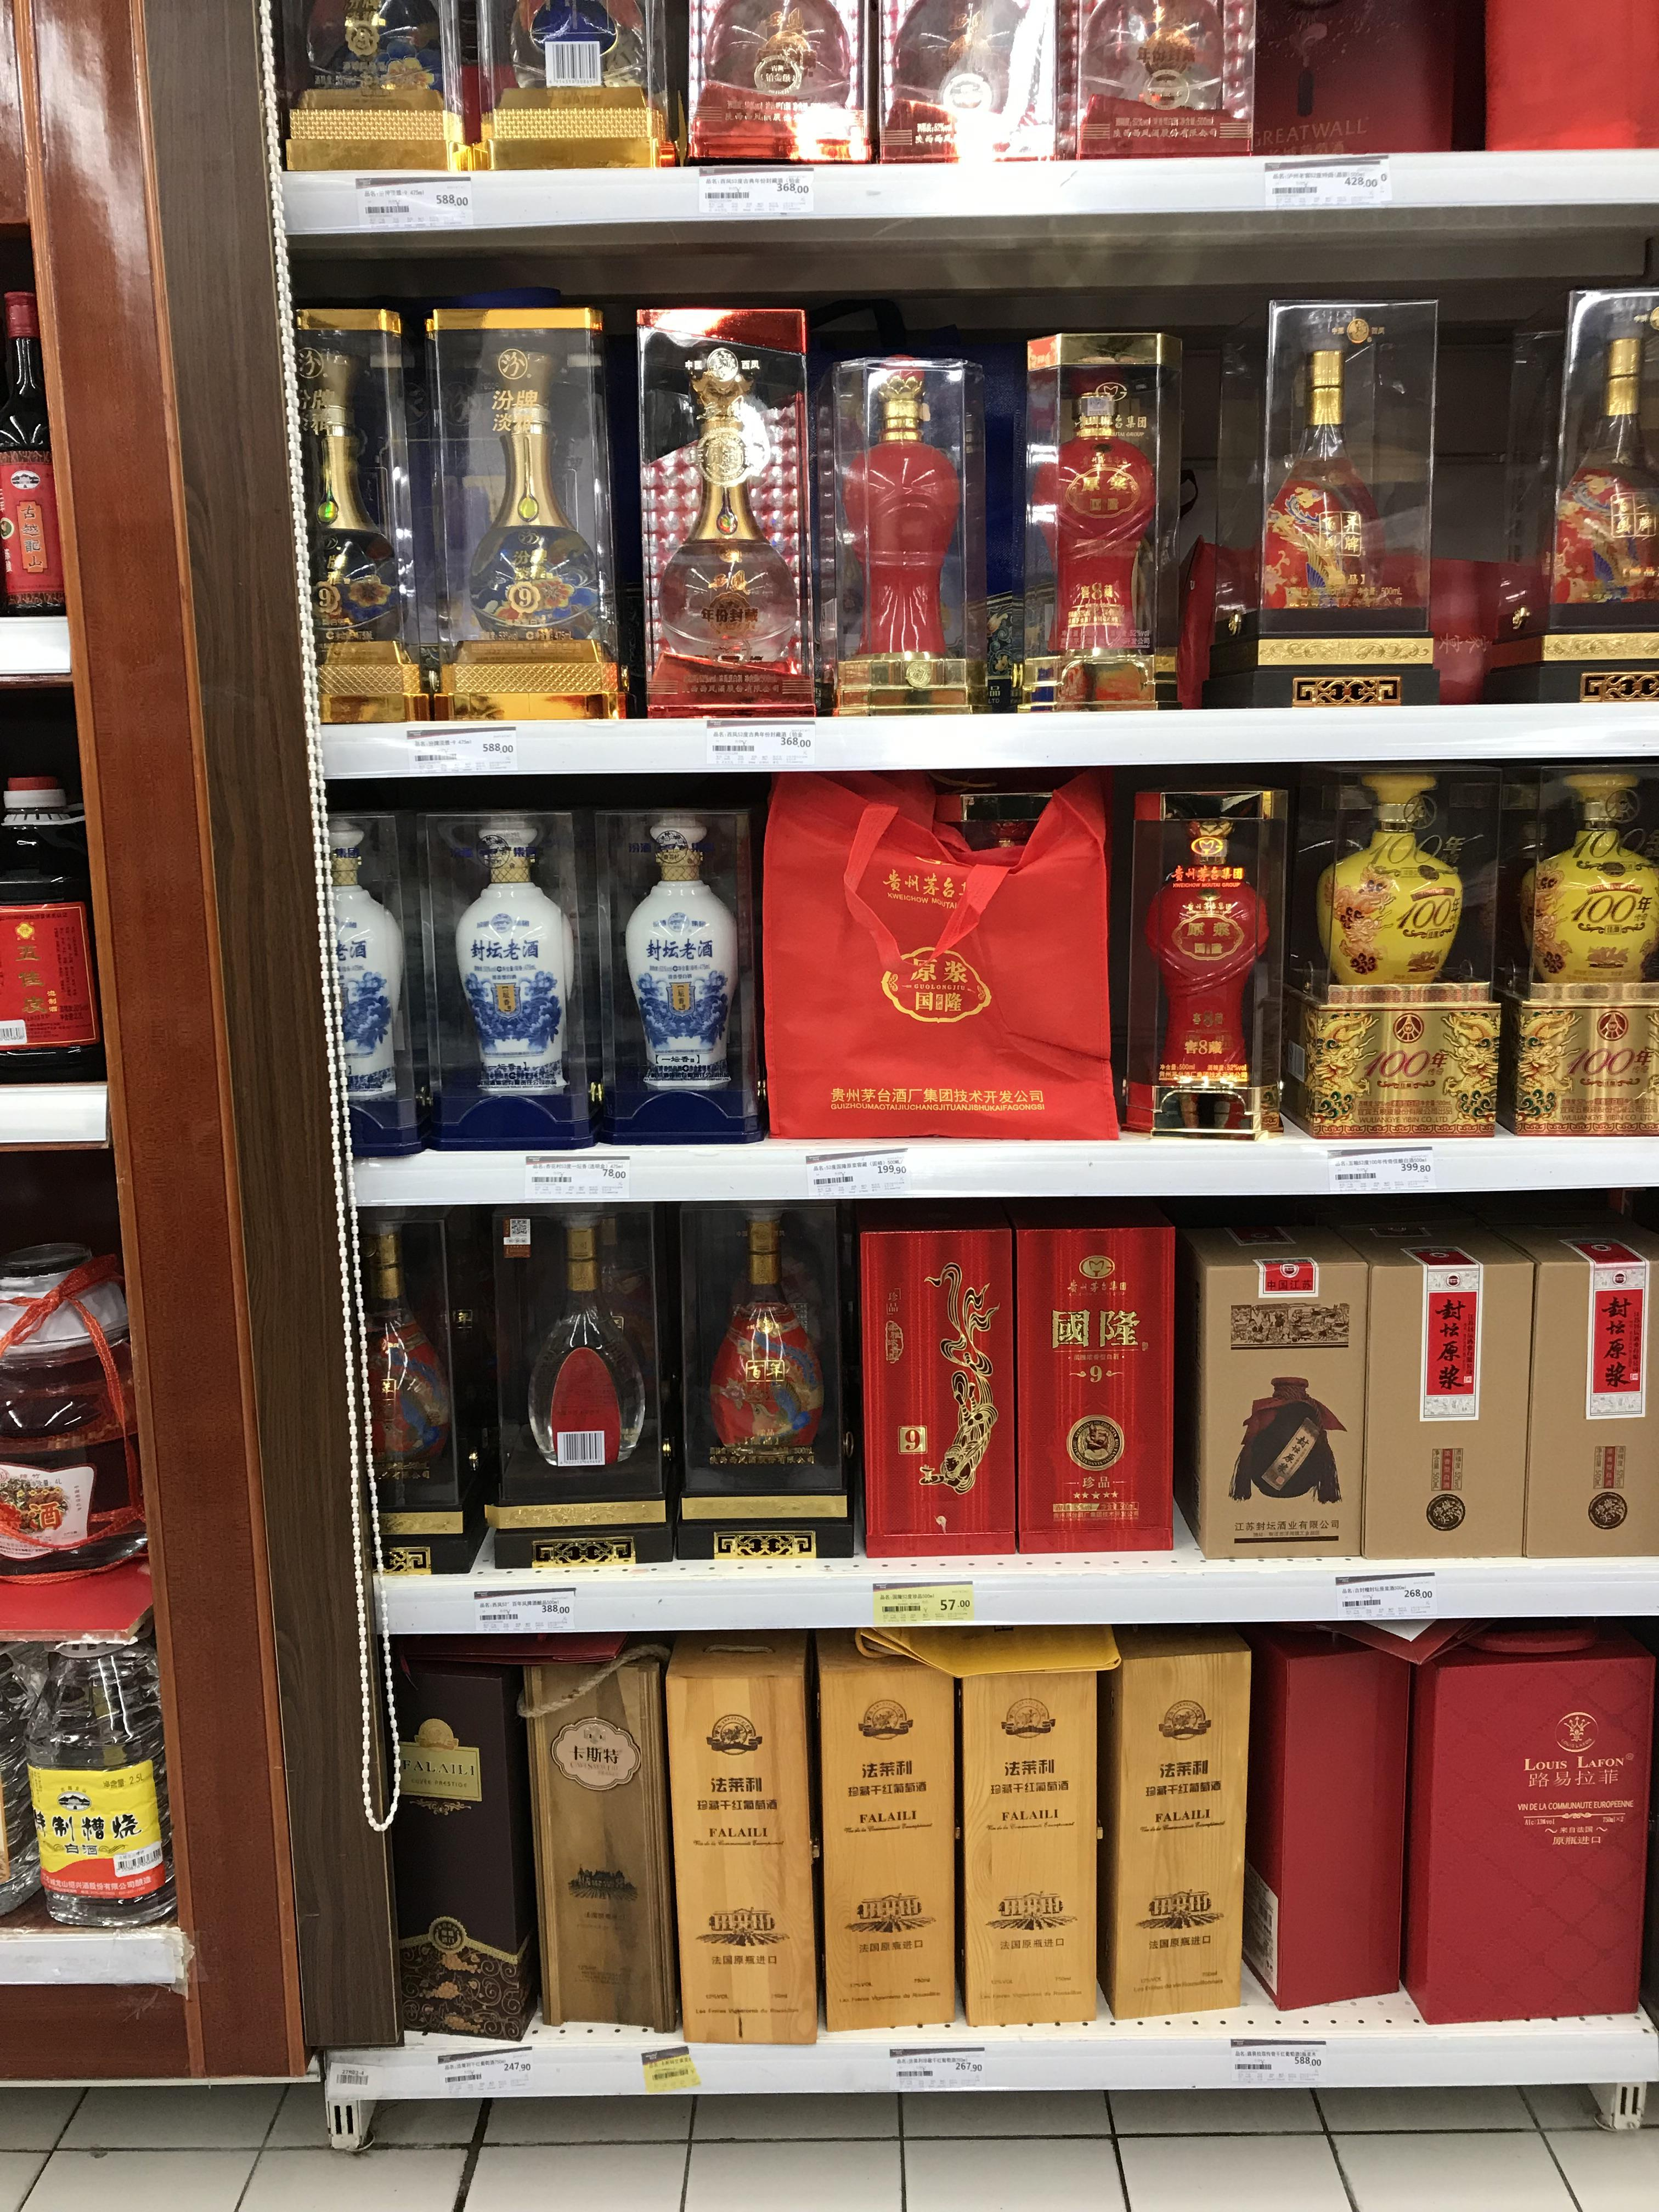bag: (1476, 298, 1656, 705)
bottle: (1216, 310, 1441, 707), (420, 307, 617, 716), (617, 305, 805, 721), (664, 1197, 857, 1564), (1326, 777, 1499, 1137), (495, 1200, 659, 1566), (1499, 775, 1659, 1137), (295, 305, 422, 742), (24, 1575, 176, 1932), (1145, 772, 1279, 1132), (444, 826, 577, 1153), (613, 813, 742, 1144), (352, 1207, 465, 1566), (0, 763, 101, 1085), (321, 834, 416, 1167), (688, 0, 856, 171), (2, 293, 82, 618)
box: (1412, 1629, 1643, 2024), (1009, 326, 1194, 716), (1331, 1214, 1535, 1562), (810, 348, 995, 723), (936, 1602, 1096, 2033), (659, 1632, 819, 2052), (1002, 1200, 1185, 1559), (812, 1609, 964, 2041), (526, 1644, 683, 2043), (1091, 1635, 1251, 2024), (1185, 1214, 1356, 1573), (382, 1646, 533, 2048), (1236, 1627, 1392, 1994), (1493, 1221, 1659, 1559), (861, 1197, 1011, 1569), (282, 0, 469, 174), (1260, 0, 1462, 153), (877, 0, 1061, 167), (486, 7, 673, 171)
bucket: (3, 1224, 138, 1578)
others: (763, 779, 1122, 1141), (1032, 0, 1251, 157)
